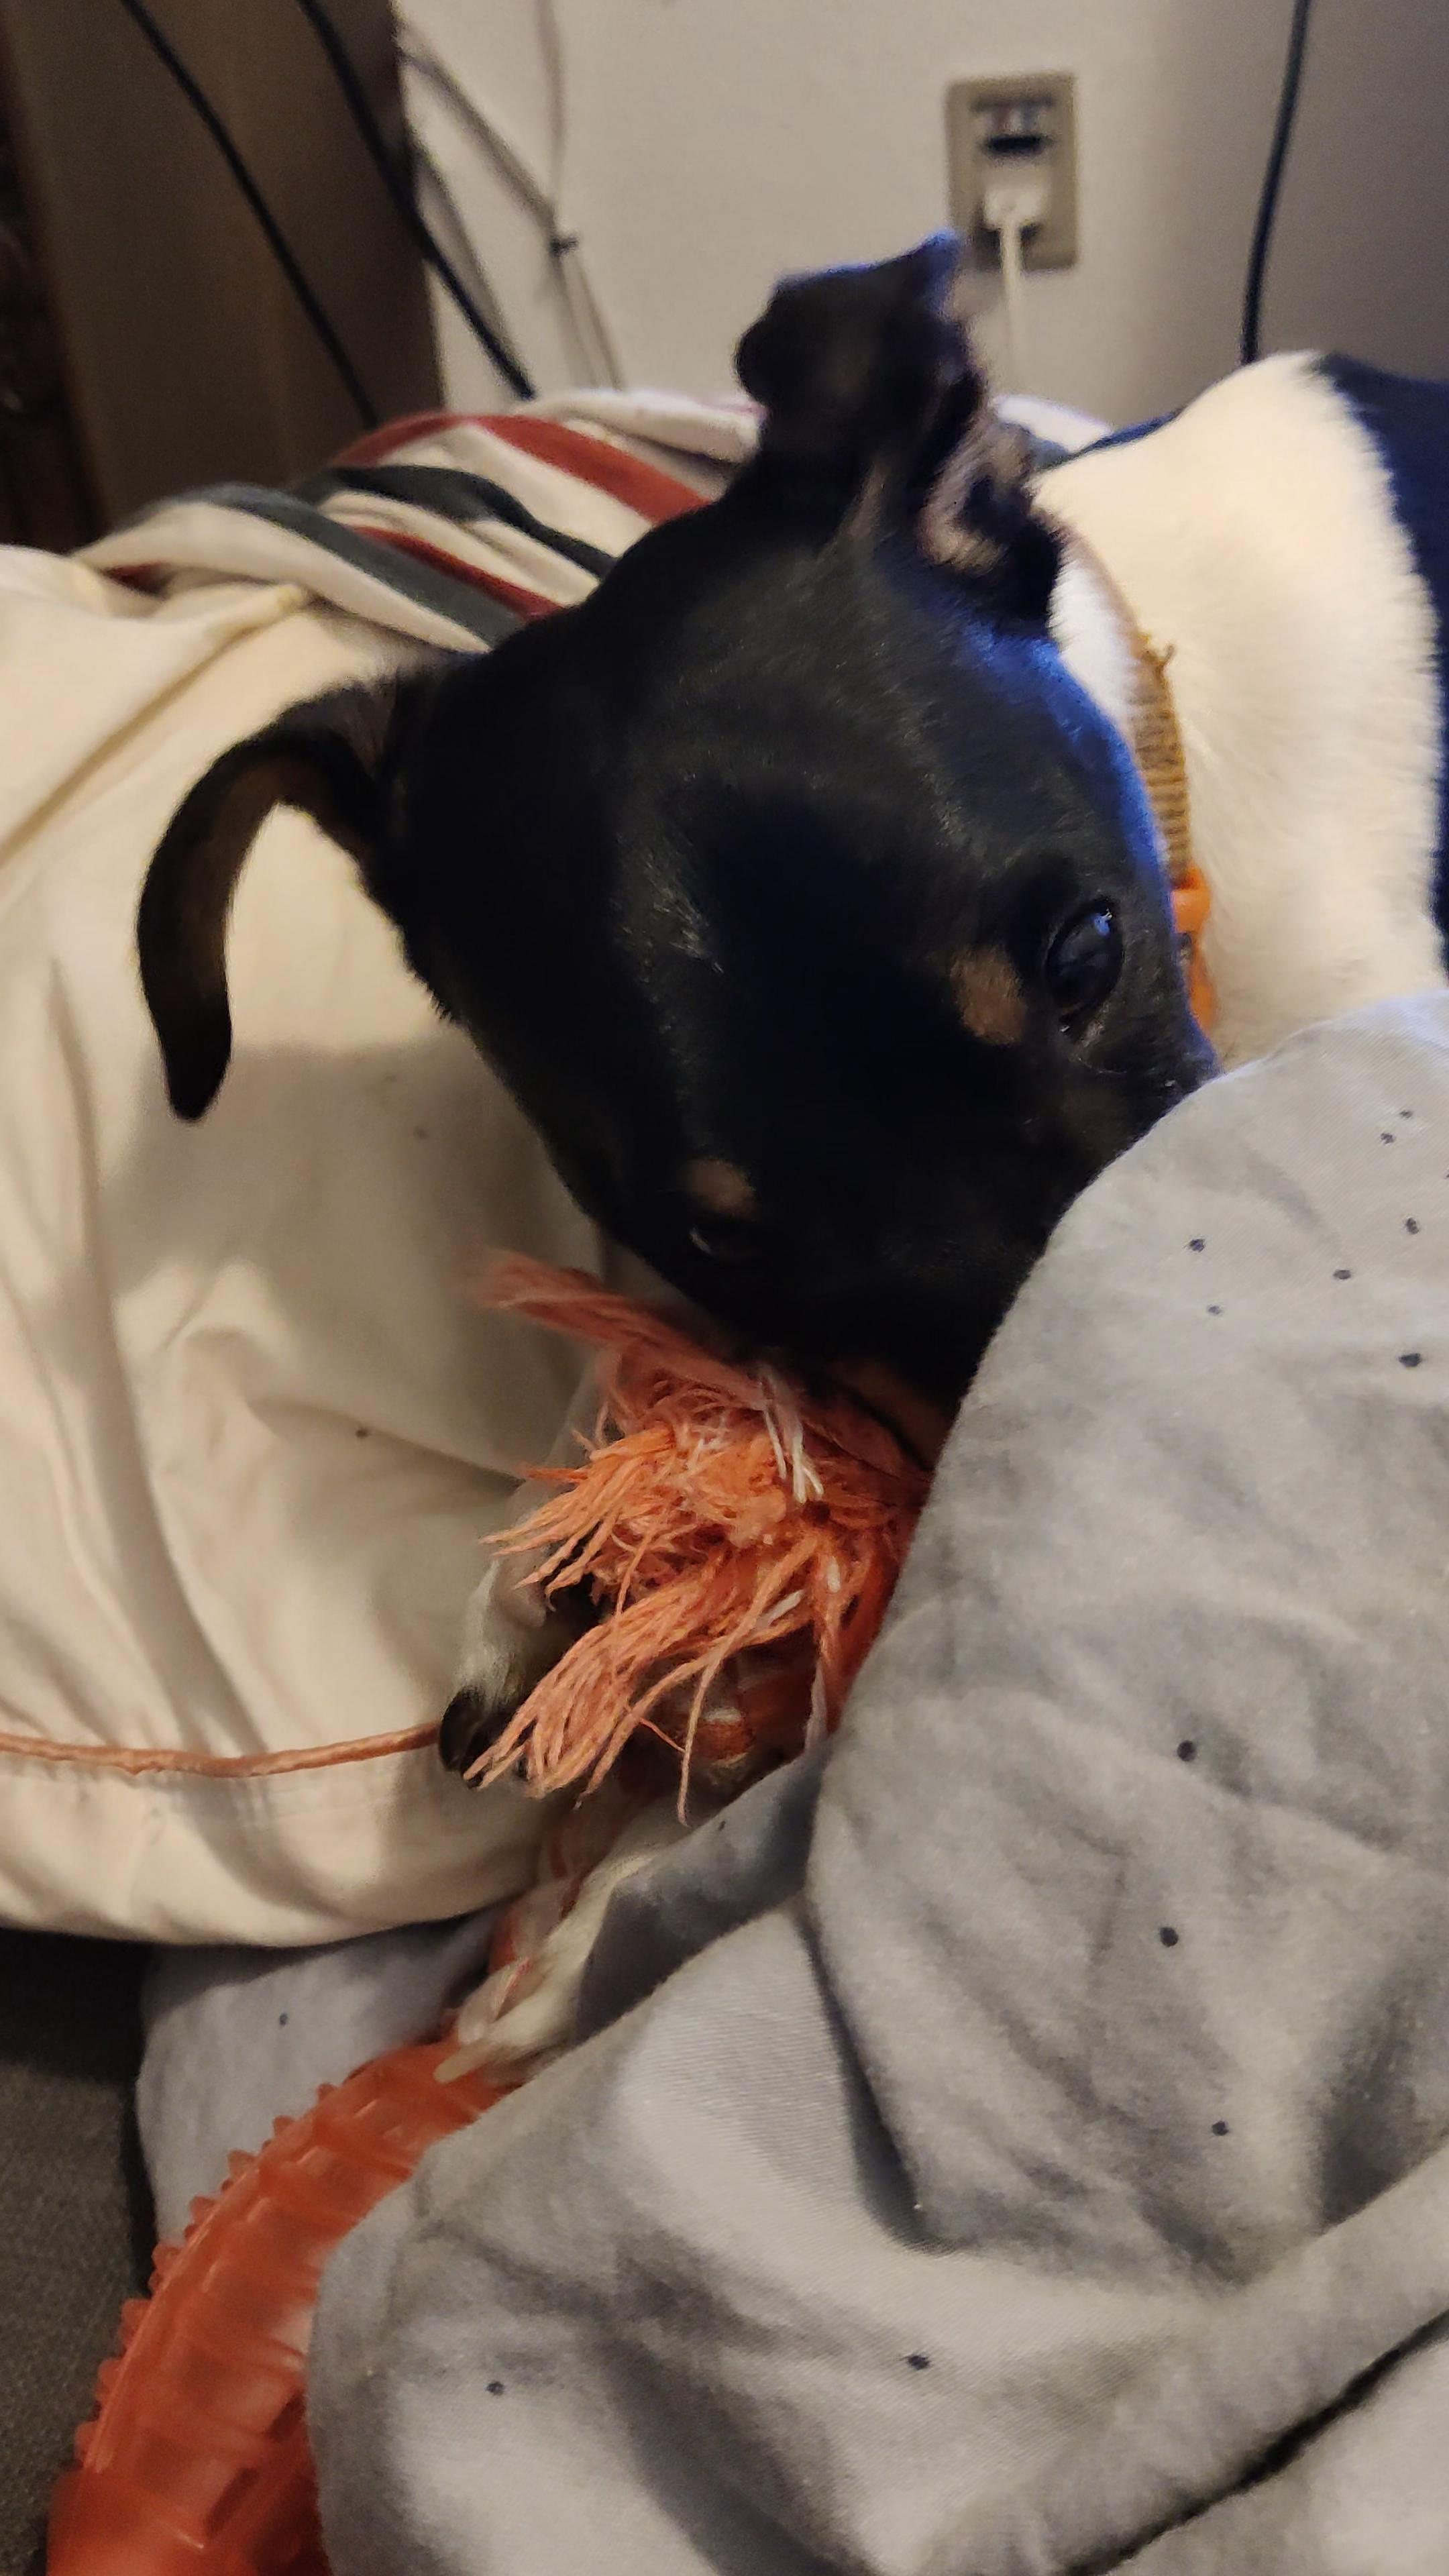Dog: (129, 219, 1449, 2104)
